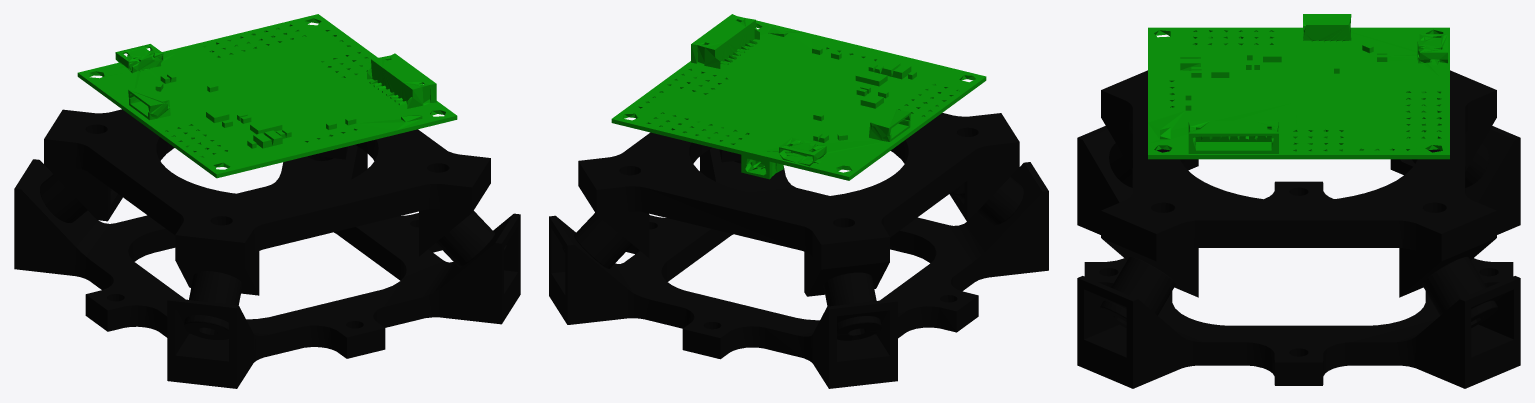
Rendered from spinal.dae.
3 views of the same model, side by side, from view 1: azimuth 30°, elevation 25°; view 2: azimuth 150°, elevation 25°; view 3: azimuth 270°, elevation 25° (orthographic). The views are drawn at different scales.
Parts seen in each view (by area): view 1: spinal_link_black, spinal_link_green; view 2: spinal_link_black, spinal_link_green; view 3: spinal_link_black, spinal_link_green.
Boxes of the visible parts, <box> form: spinal_link_black: <box>14,109,520,388</box>; spinal_link_green: <box>77,14,457,178</box>; spinal_link_black: <box>549,113,1048,388</box>; spinal_link_green: <box>611,14,986,180</box>; spinal_link_black: <box>1077,70,1520,388</box>; spinal_link_green: <box>1148,14,1449,159</box>.
Bounding box in the file's own units: 0.0734 × 0.0734 × 0.041.
